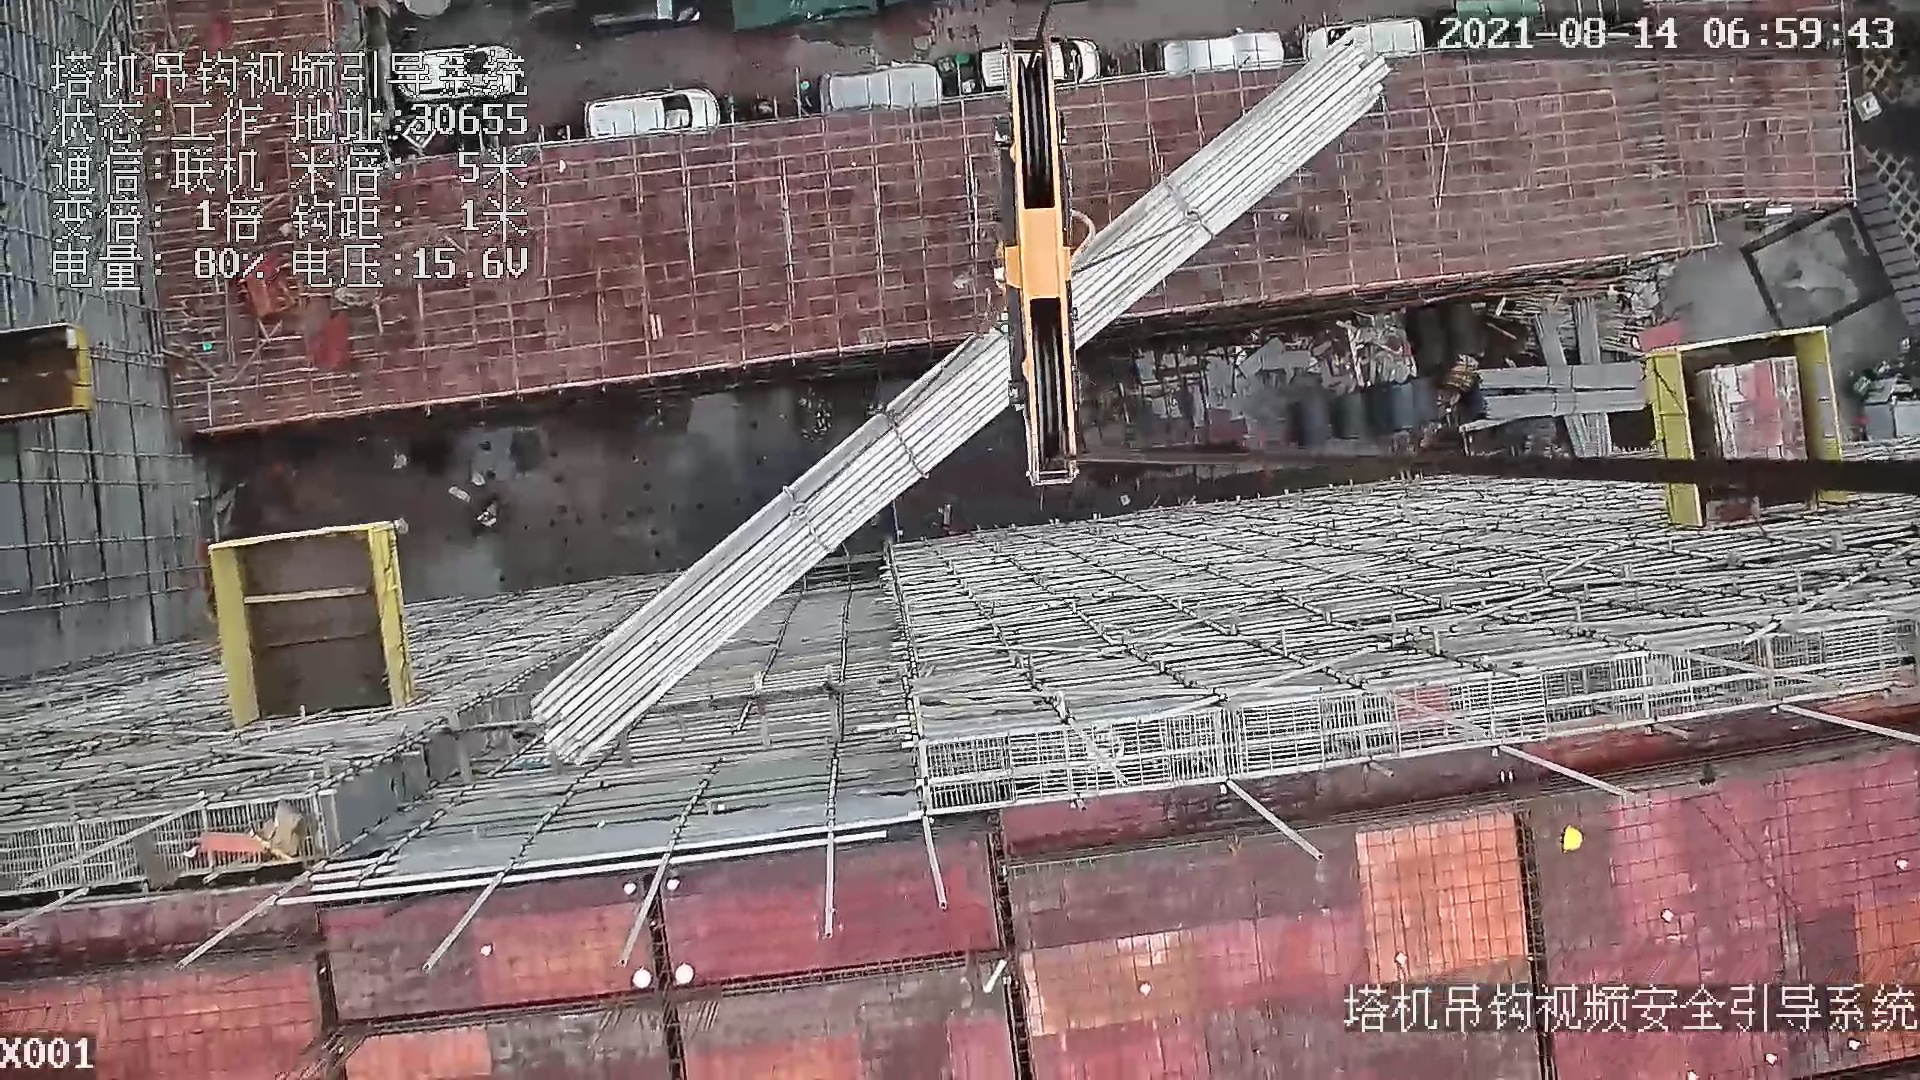board: (1697, 353, 1807, 464)
helmet: (1563, 825, 1582, 855)
hook: (982, 28, 1088, 491)
rebar: (529, 50, 1386, 769), (1481, 389, 1646, 422), (1476, 361, 1640, 392), (1571, 298, 1604, 363), (1532, 313, 1567, 367)
